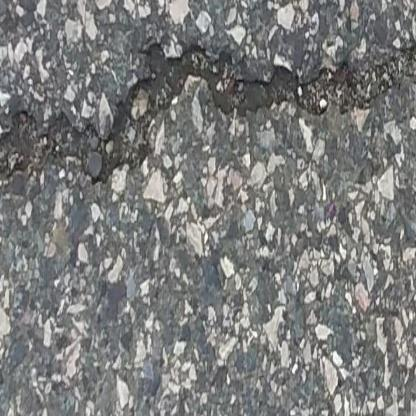Cracks: (0, 38, 416, 181)
